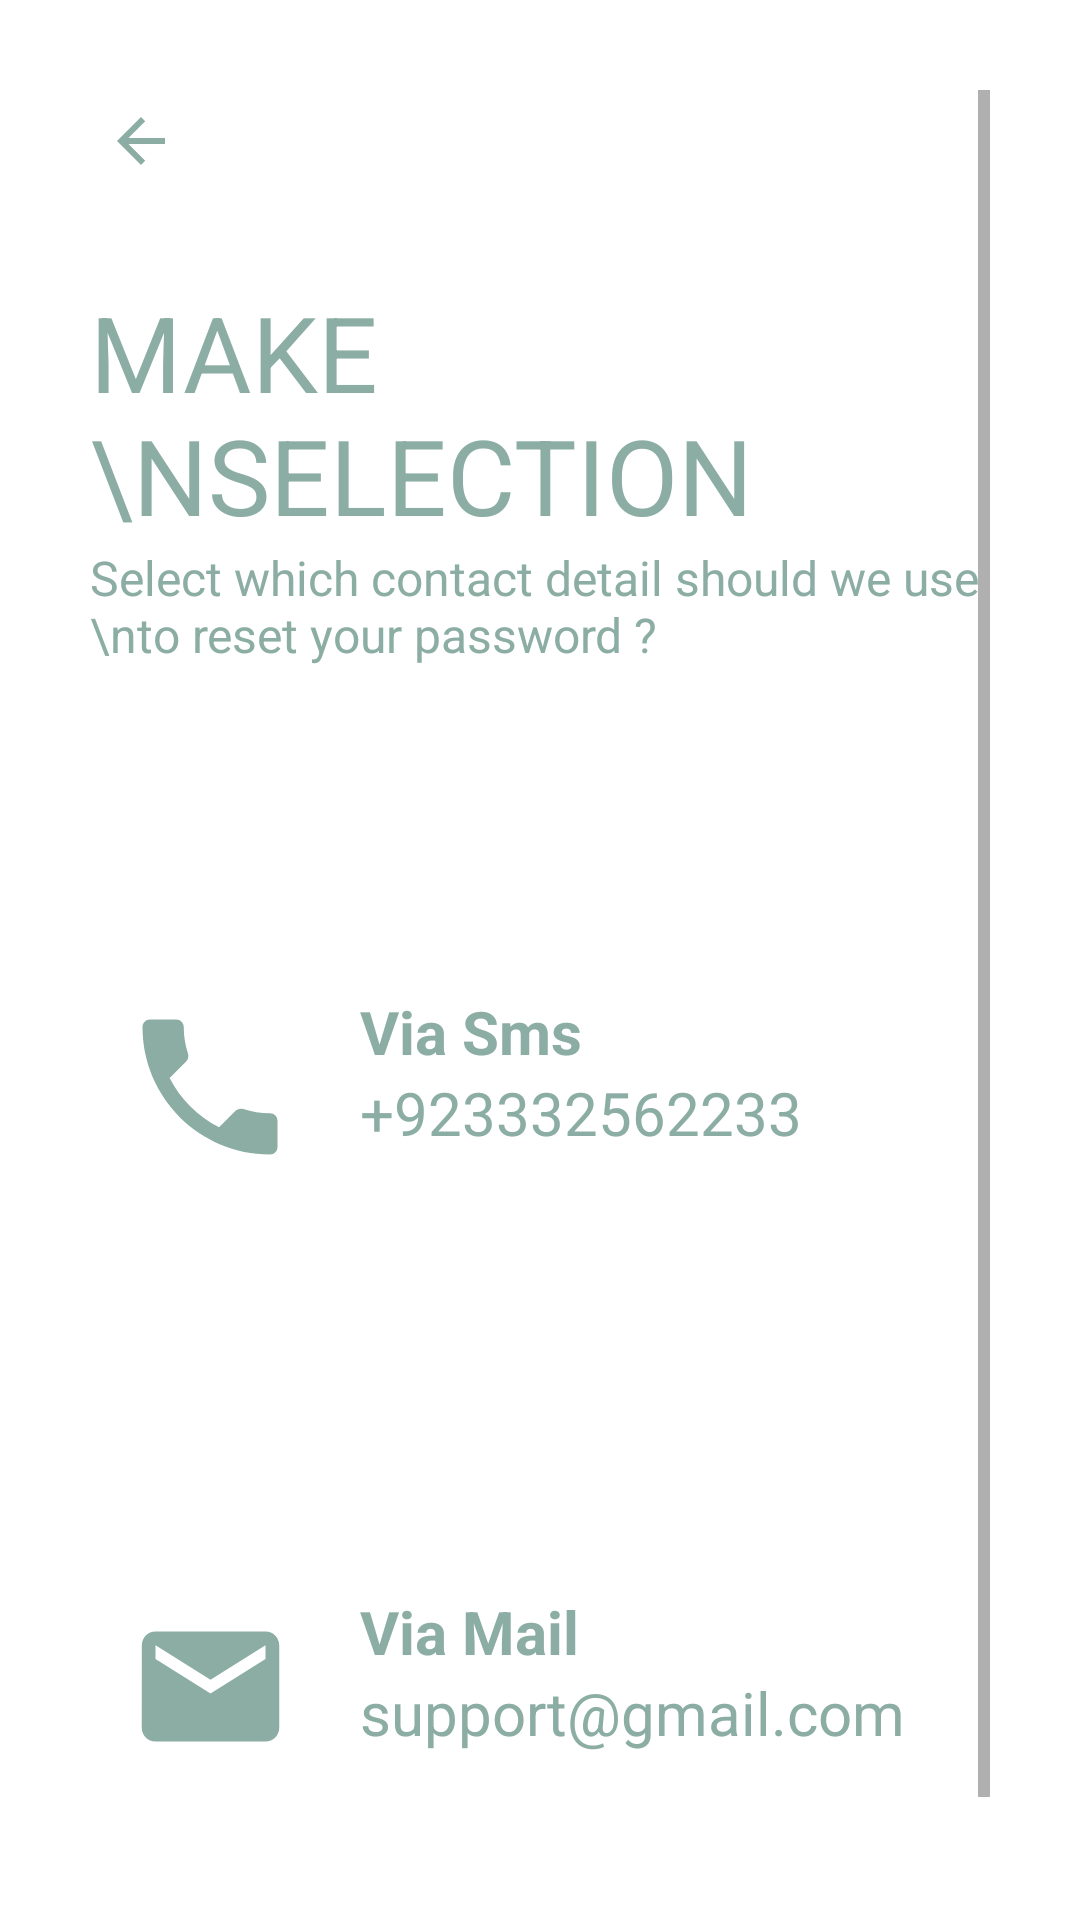

Icons on this 1080*1920 Android screen, each with its box as box=[x1, y1, x2, y2]:
arrow back: box=[117, 117, 165, 165]
email: box=[141, 1631, 280, 1742]
phone: box=[142, 1019, 278, 1155]
